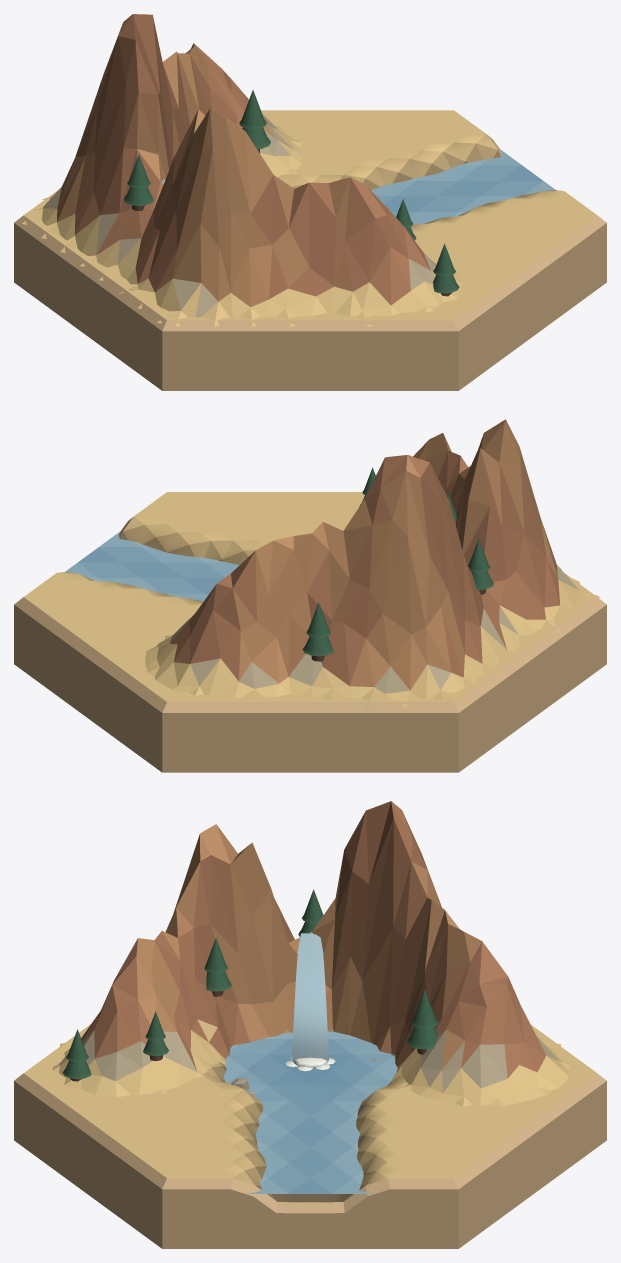
Rendered from river_source_dry_2.fbx.
3 views of the same model, one above another, from view 1: azimuth 30°, elevation 25°; view 2: azimuth 150°, elevation 25°; view 3: azimuth 270°, elevation 25° (orthographic).
Visible parts, largest first — view 1: river_source_dry_2; view 2: river_source_dry_2; view 3: river_source_dry_2.
Boxes of the visible parts, left/top/right/bottom form: river_source_dry_2: left=14, top=14, right=606, bottom=390; river_source_dry_2: left=14, top=419, right=606, bottom=772; river_source_dry_2: left=14, top=801, right=606, bottom=1248.
Bounding box in the file's own units: 1.73 × 1.01 × 2.
